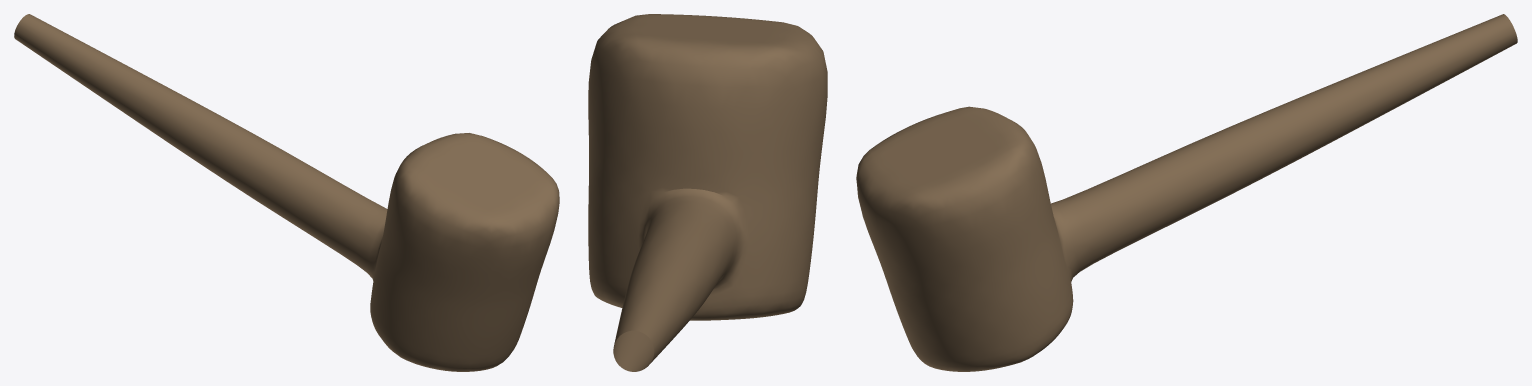
The model's file is Pipe.gltf.
3 renders of one model, left to right at view 1: azimuth 30°, elevation 25°; view 2: azimuth 150°, elevation 25°; view 3: azimuth 270°, elevation 25°, orthographic. The views are drawn at different scales.
Visible parts, largest first — view 1: mouth8; view 2: mouth8; view 3: mouth8.
Part boxes in pixels (box(x1,y1,x2,y2)): mouth8: box(14, 14, 559, 371); mouth8: box(588, 14, 827, 371); mouth8: box(856, 14, 1517, 371).
Bounding box in the file's own units: 1.12 × 0.8011 × 2.05.
